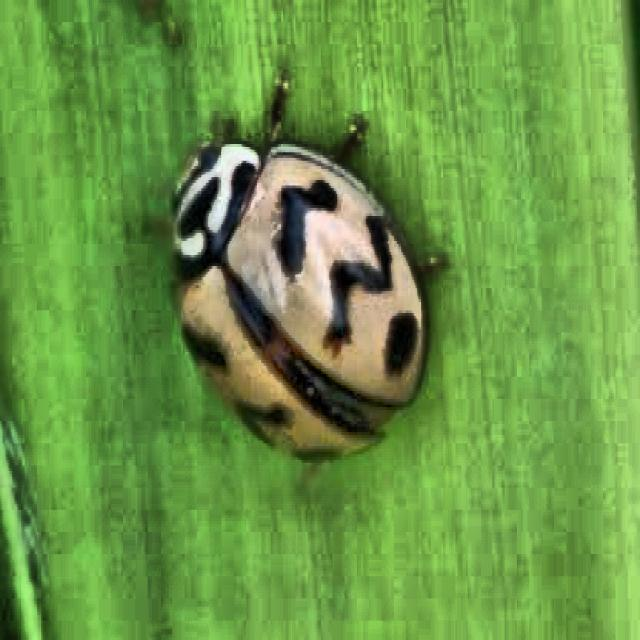Asian-Lady-beetle: (95, 48, 497, 559)
